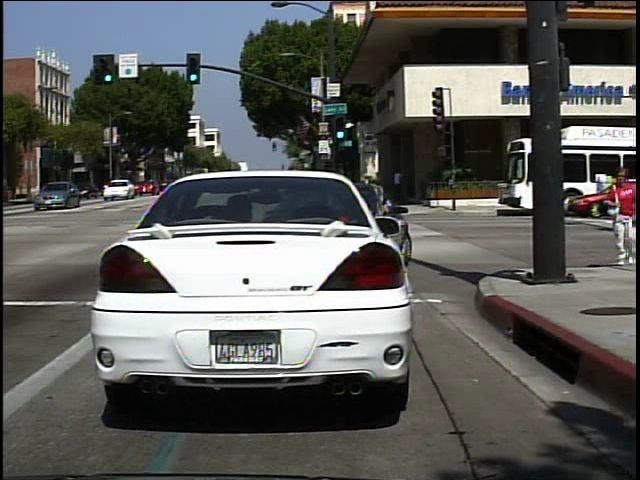person: (605, 165, 638, 265), (390, 167, 409, 204)
